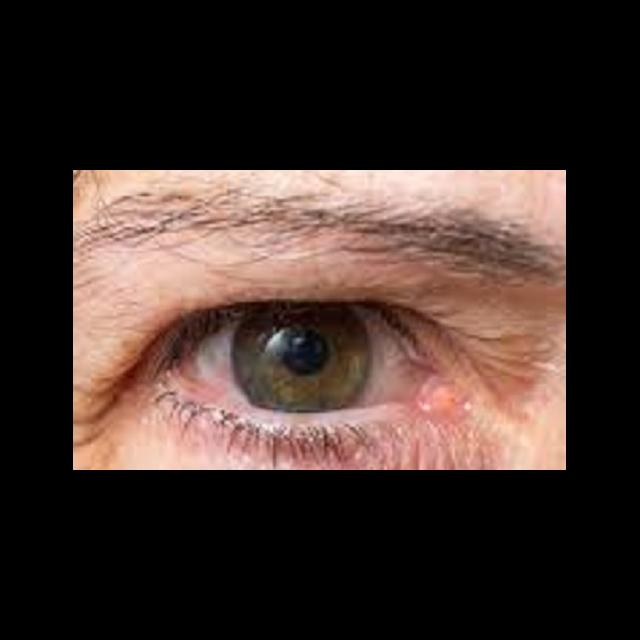eye: (191, 301, 422, 419)
iris: (235, 307, 372, 416)
